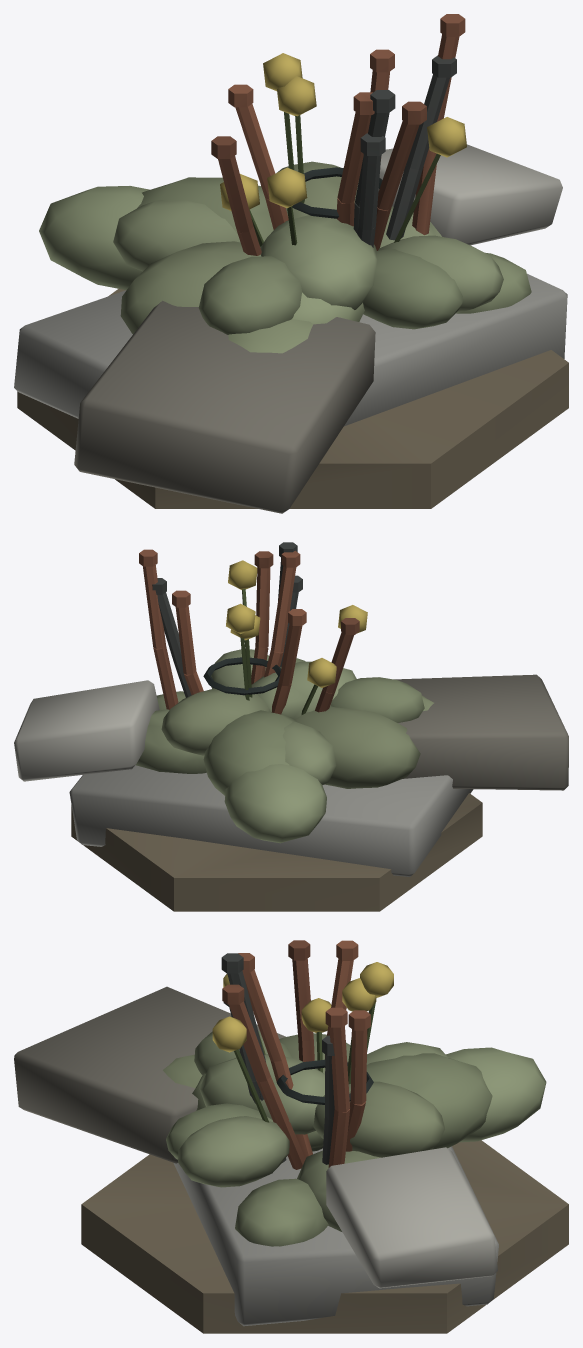
File: rebar_bloom_a.glb
3 renders of one model, top to bottom at view 1: azimuth 30°, elevation 25°; view 2: azimuth 150°, elevation 25°; view 3: azimuth 270°, elevation 25°, orthographic. The views are drawn at different scales.
Visible parts, largest first — view 1: Surface; view 2: Surface; view 3: Surface.
Boxes of the visible parts, left/top/right/bottom form: Surface: left=14, top=14, right=568, bottom=513; Surface: left=14, top=542, right=568, bottom=911; Surface: left=14, top=940, right=568, bottom=1333.
Bounding box in the file's own units: 4.17 × 2.27 × 3.76.
